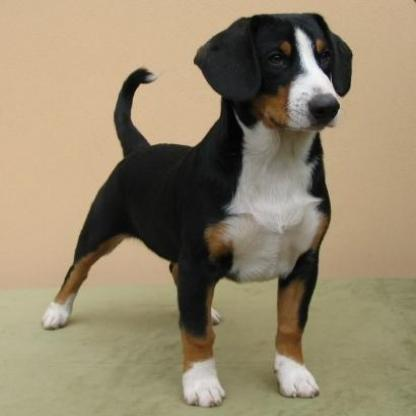EntleBucher: (35, 8, 353, 407)
